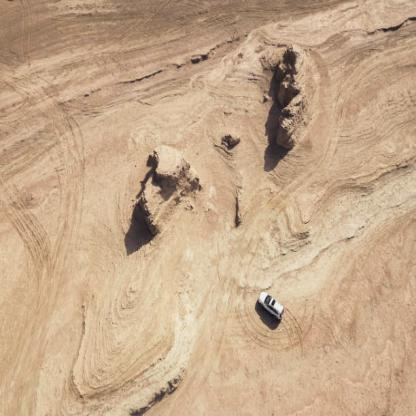Sedimentary_Sandstone: (264, 46, 322, 150), (140, 147, 203, 235)
